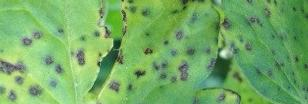Tomato Septoria leaf spot: (0, 0, 233, 104), (220, 0, 308, 104)
